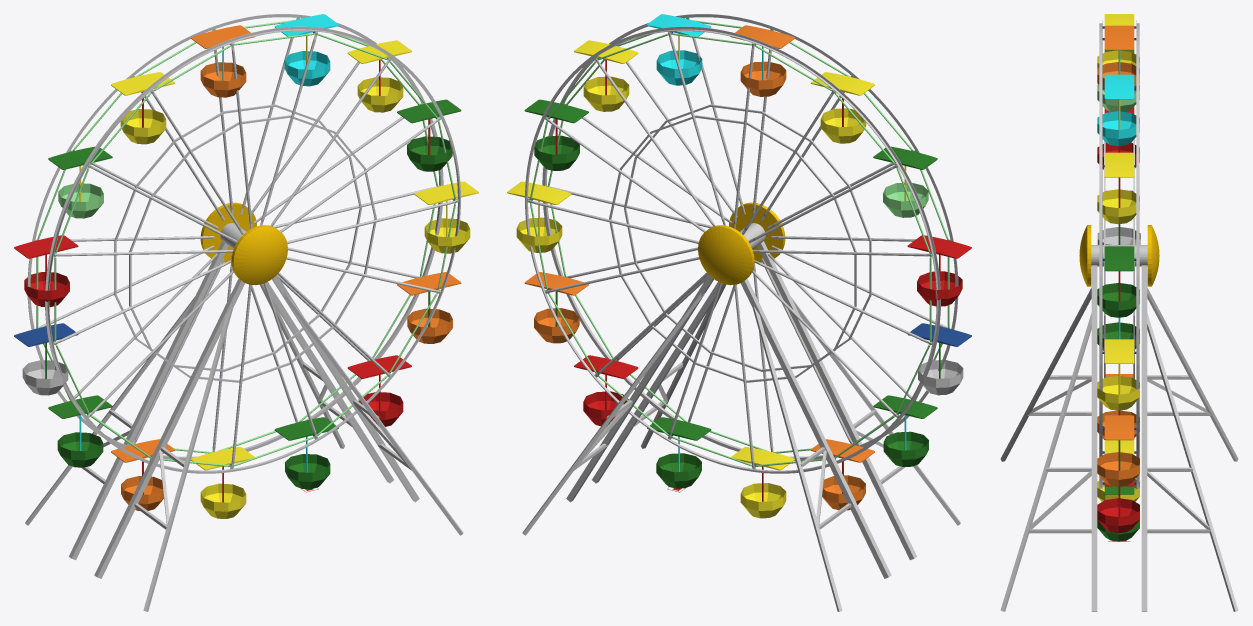
The model's file is Ferris_Wheel.fbx.
The picture shows the model from 3 angles, left to right: view 1: azimuth 30°, elevation 25°; view 2: azimuth 150°, elevation 25°; view 3: azimuth 270°, elevation 25°; orthographic projection.
Visible parts, largest first — view 1: Ferris_Wheel; view 2: Ferris_Wheel; view 3: Ferris_Wheel.
Part boxes in pixels (x1,y1,x2,y2): Ferris_Wheel: (14, 14, 478, 611); Ferris_Wheel: (507, 14, 971, 611); Ferris_Wheel: (1000, 14, 1238, 611).
Size of the model in its own units: 2228 by 2379 by 1039.
